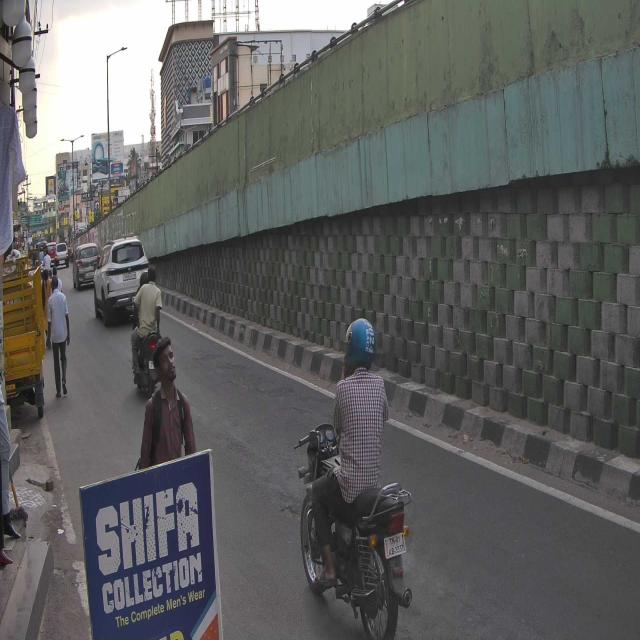single_rider: (294, 316, 418, 640)
